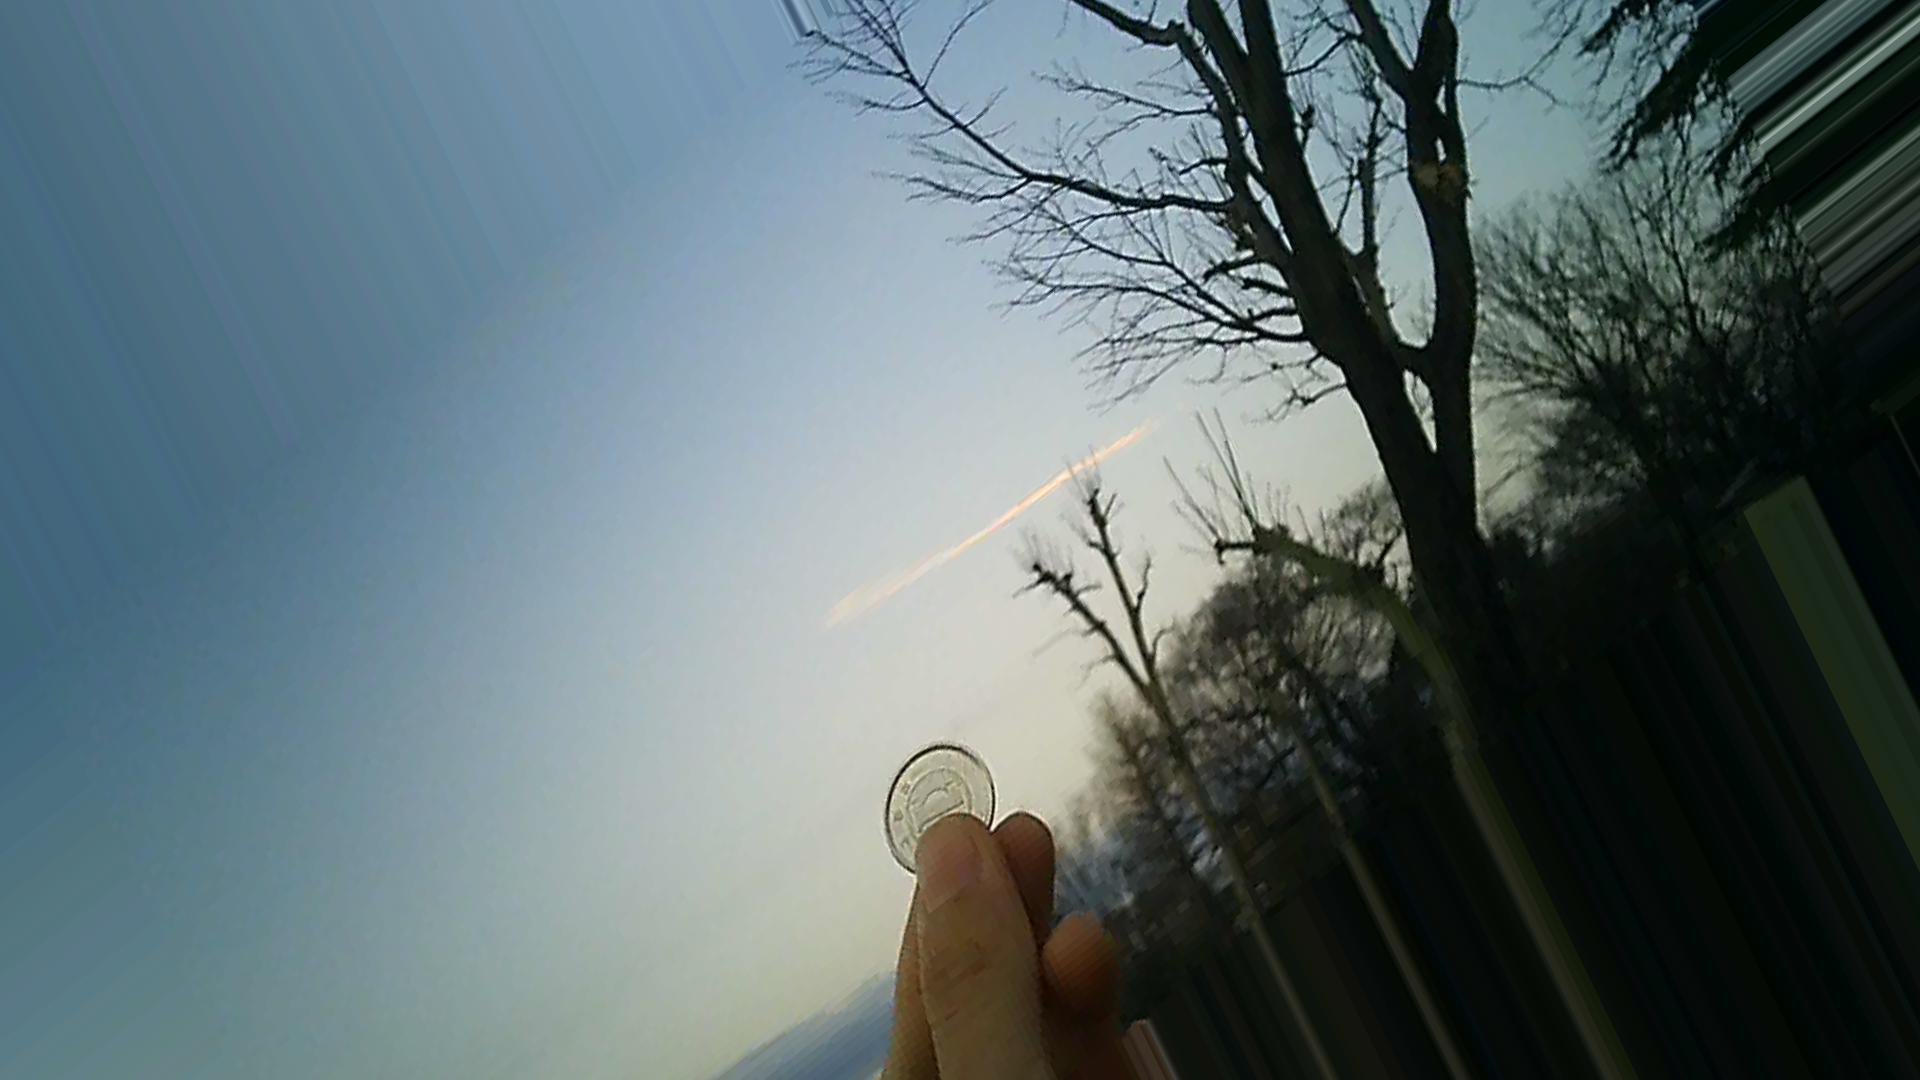1 Yen: (878, 742, 1005, 864)
